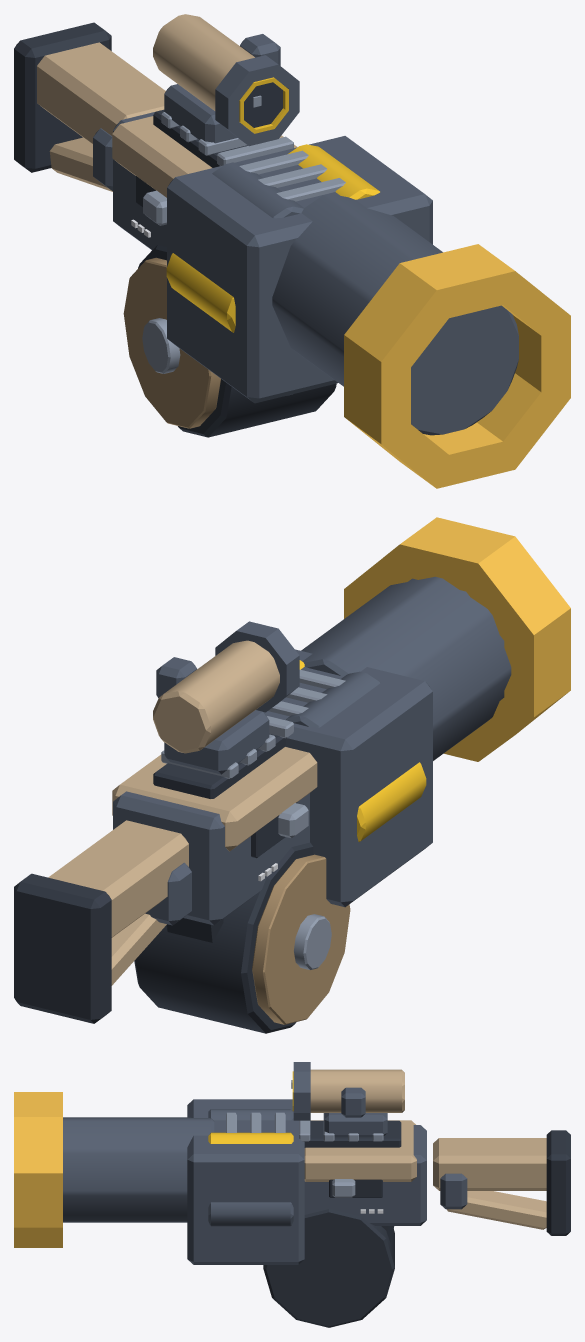
File: Military_GL_v002.fbx
3 renders of one model, top to bottom at view 1: azimuth 30°, elevation 25°; view 2: azimuth 150°, elevation 25°; view 3: azimuth 270°, elevation 25°, orthographic. The views are drawn at different scales.
Visible parts, largest first — view 1: Military_GL__RECEIVER_MESH, Military_GL__MAGAZINE_MESH; view 2: Military_GL__RECEIVER_MESH, Military_GL__MAGAZINE_MESH; view 3: Military_GL__RECEIVER_MESH, Military_GL__MAGAZINE_MESH.
Part boxes in pixels (bbox=[...]): Military_GL__RECEIVER_MESH: bbox=[14, 14, 570, 488]; Military_GL__MAGAZINE_MESH: bbox=[123, 245, 336, 437]; Military_GL__RECEIVER_MESH: bbox=[14, 517, 570, 1023]; Military_GL__MAGAZINE_MESH: bbox=[134, 842, 350, 1033]; Military_GL__RECEIVER_MESH: bbox=[14, 1062, 570, 1264]; Military_GL__MAGAZINE_MESH: bbox=[263, 1209, 394, 1327].
Bounding box in the file's own units: 0.6208 × 1.1 × 2.28.
